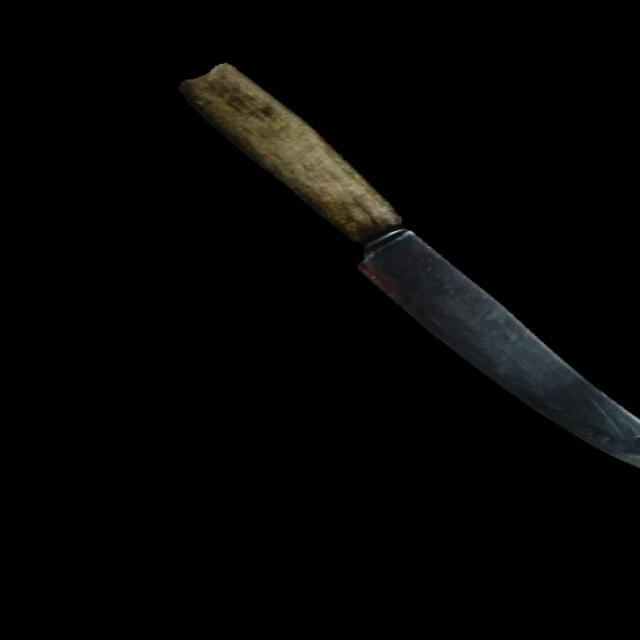knife: (179, 54, 638, 475)
